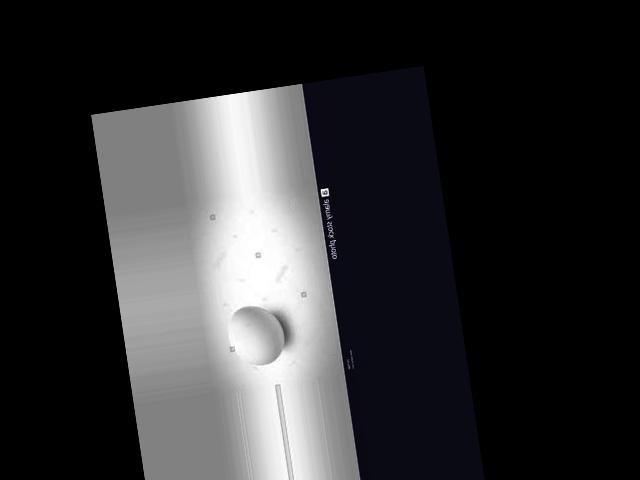egg: (226, 302, 288, 369)
